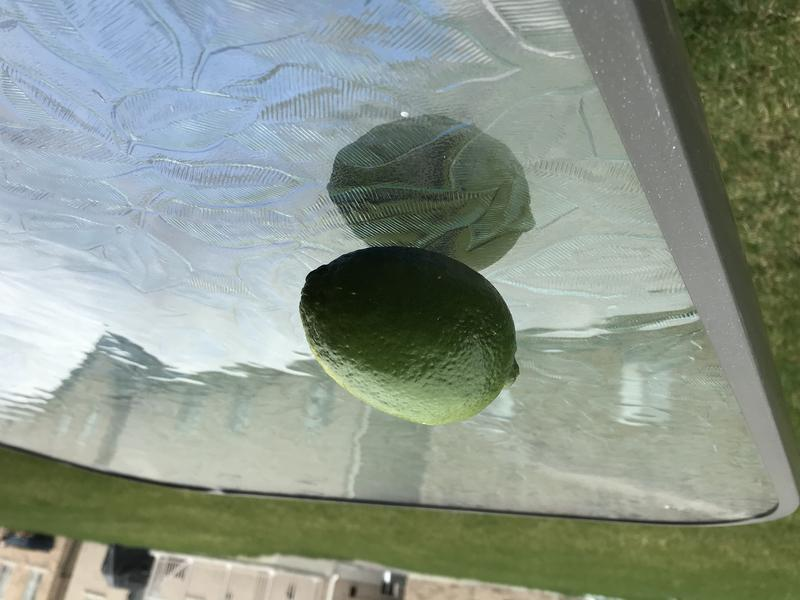lime: (292, 238, 528, 434)
